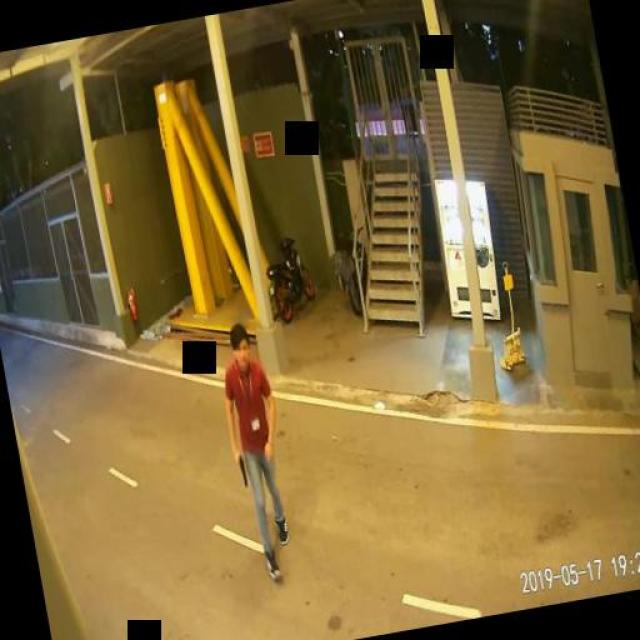gun: (232, 449, 246, 486)
